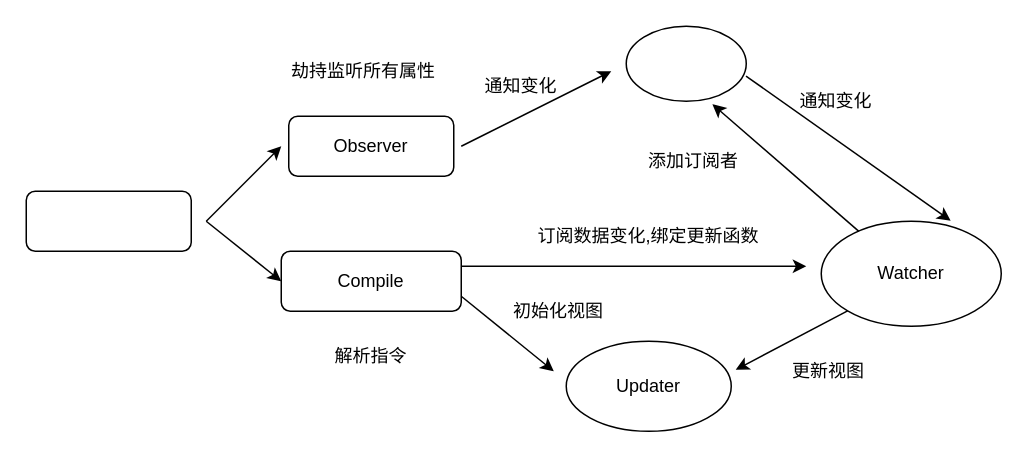
Image size: 1028x458. Some labels were removed from this diagram. Each missing label, with the centre of its shape:
Dep: point (685, 63)
new MVVM(): point (108, 220)
